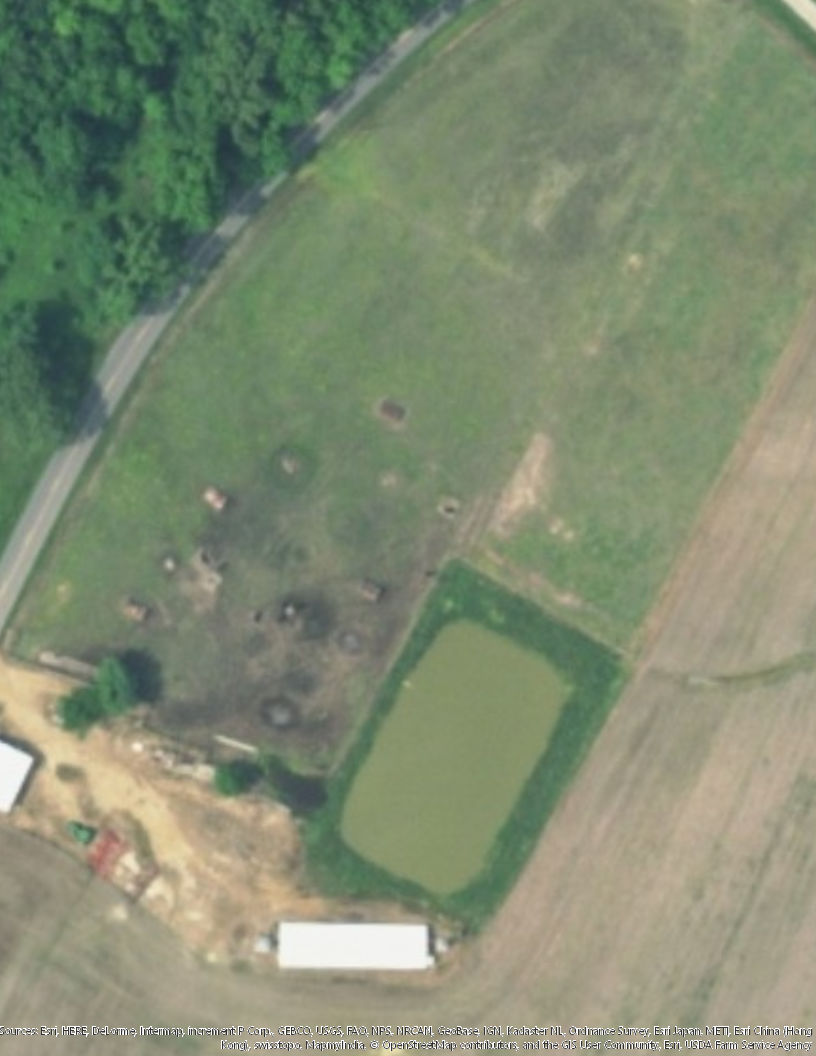cafo: (276, 920, 441, 970)
